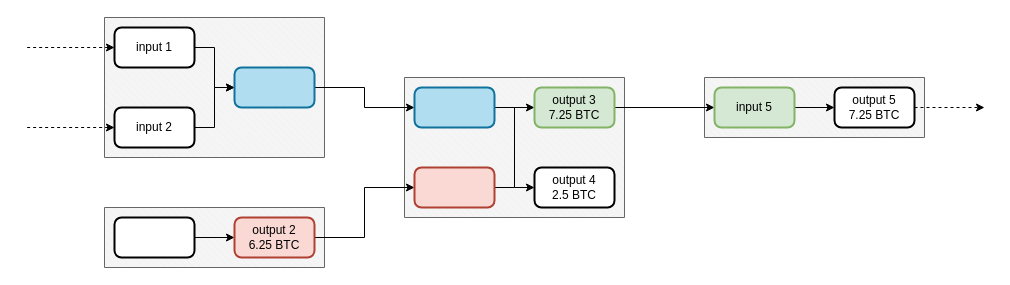
Some shapes in this 1010 by 285 pixel diagram are drawn without their labels. Here are the shapes that lost their labels. From the top down, the box of each, then its label:
(233, 66, 315, 108): output 1 3.5 BTC
(413, 86, 495, 128): input 3
(413, 166, 495, 208): input 4
(113, 216, 195, 258): coinbase
